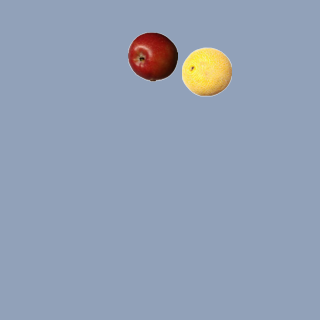Apple Braeburn: (127, 31, 177, 81)
Cantaloupe 1: (181, 46, 231, 96)
